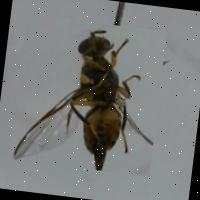Oriental-fruit-fly: (8, 14, 166, 176)
